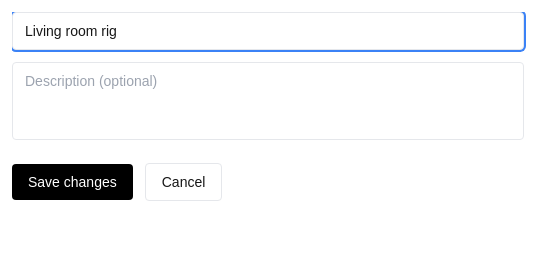
Scenario: EditSystemForm › Submission › shows a fallback error message when the API response has no error field
Click the button "Save changes" at x=72, y=182, box 12,164 -> 133,200
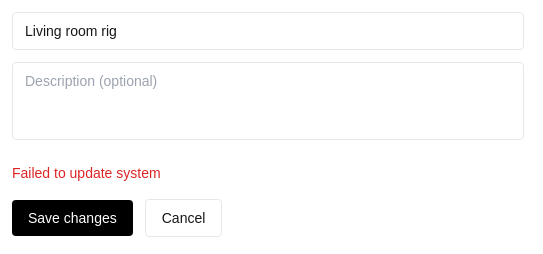
Expected: the text "Failed to update system" is shown, 12,165 -> 161,181
